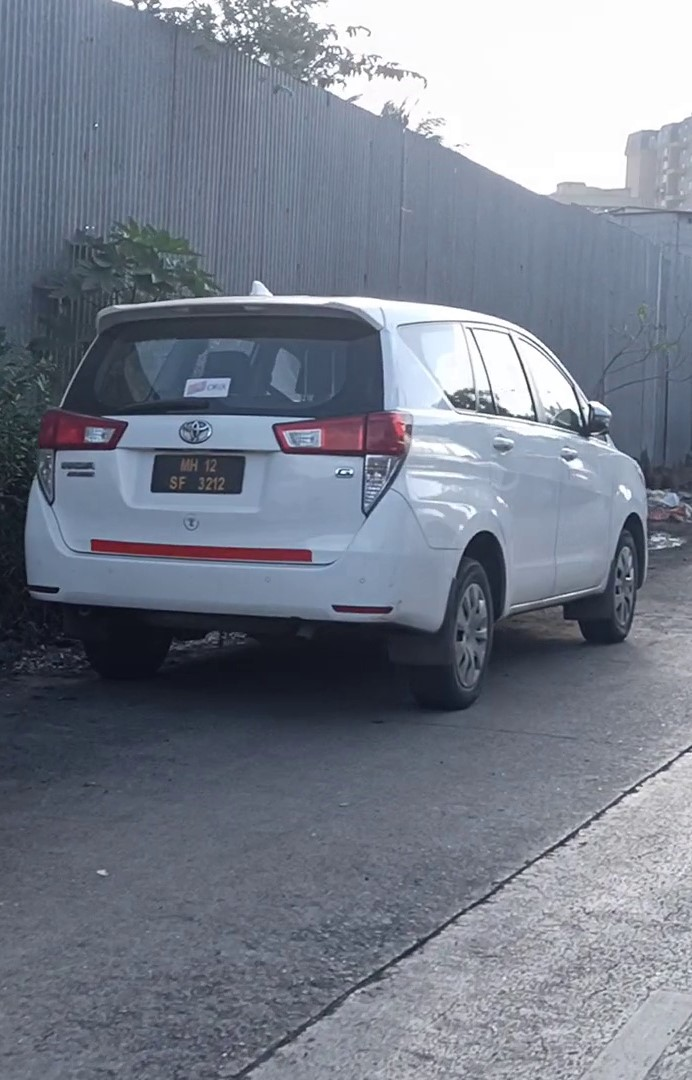MH12SF3212: (151, 454, 247, 495)
